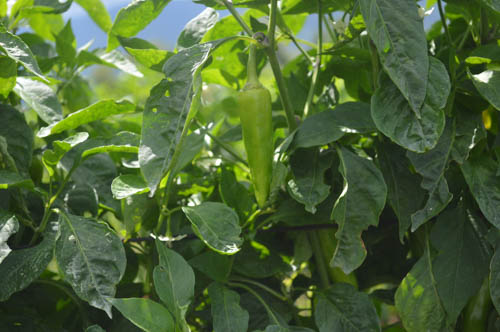ChiliPepper: (235, 90, 275, 206)
